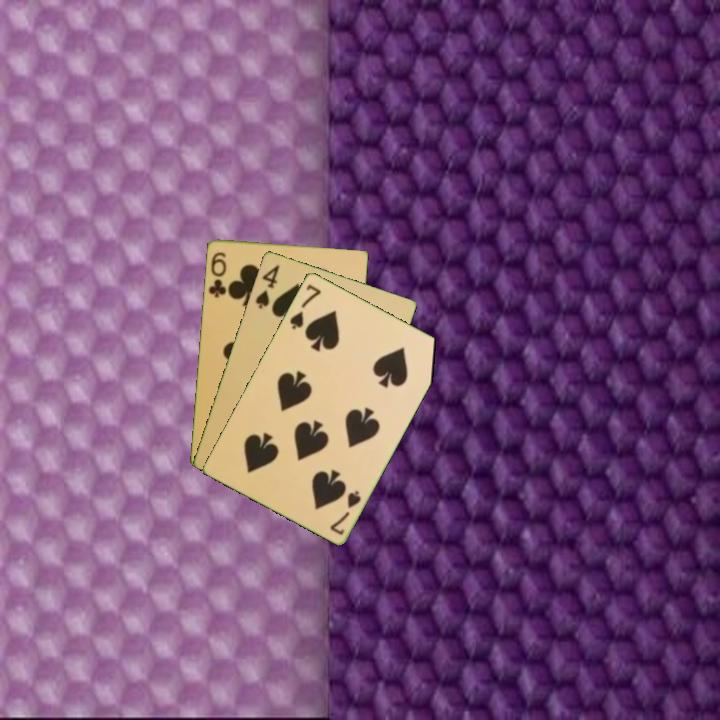4s: (252, 261, 282, 312)
6c: (205, 248, 229, 300)
7s: (286, 280, 324, 332), (326, 486, 364, 538)
